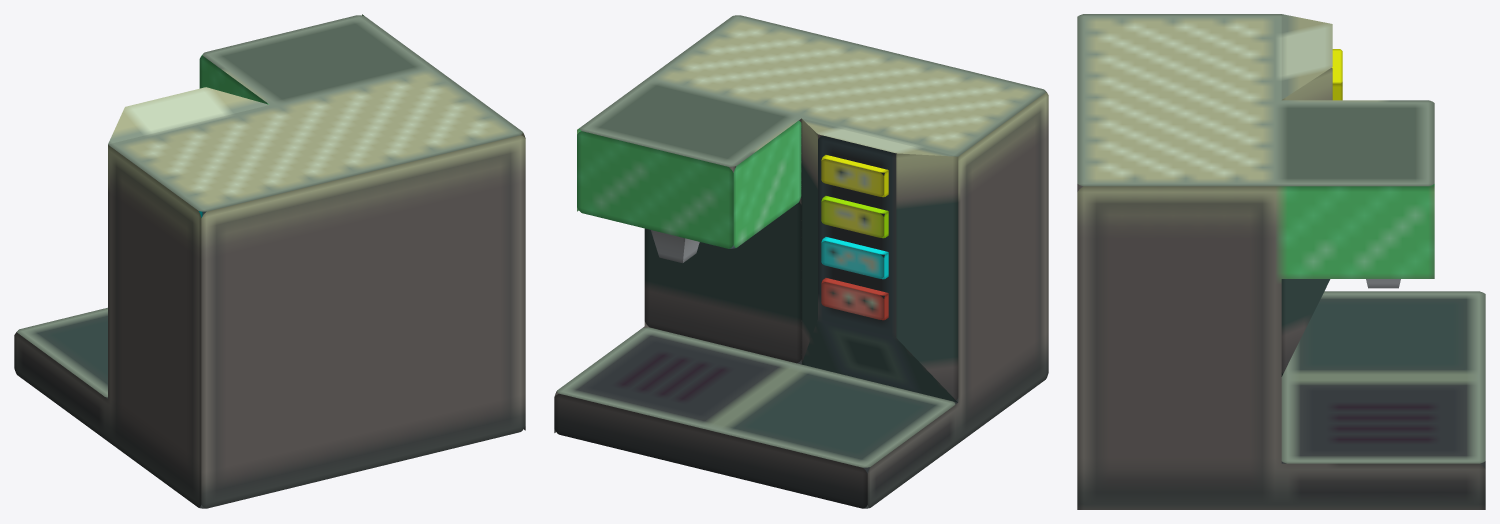
File: SodaMashine.fbx
The picture shows the model from 3 angles, left to right: view 1: azimuth 30°, elevation 25°; view 2: azimuth 150°, elevation 25°; view 3: azimuth 270°, elevation 25°; orthographic projection. The views are drawn at different scales.
Parts seen in each view (by area): view 1: cuboid; view 2: cuboid, cuboid_2, cuboid_3, cuboid_4, cuboid_5, cuboid_1; view 3: cuboid, cuboid_5.
Boxes of the visible parts, x1,y1,x2,y2 form: cuboid: (14, 14, 525, 508); cuboid: (554, 15, 1048, 508); cuboid_2: (821, 278, 888, 320); cuboid_3: (821, 237, 888, 279); cuboid_4: (821, 196, 888, 238); cuboid_5: (821, 155, 888, 197); cuboid_1: (651, 230, 699, 263); cuboid: (1077, 14, 1485, 509); cuboid_5: (1332, 49, 1342, 100).
Size of the model in its own units: 133 by 121 by 133.
1 material, 1 textured.
